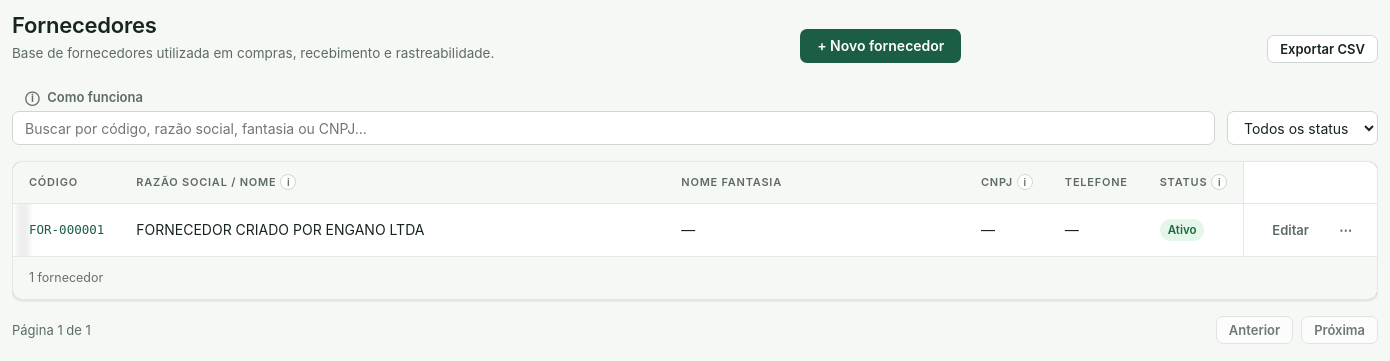
quem vê › Compras mantém o Fornecedor, mas não exclui definitivamente
Expected: the text "FOR-000001" is shown, [13,204,120,256]
Click the button named "Mais ações de FOR-000001" at (1346, 230), box [1330,216,1361,244]
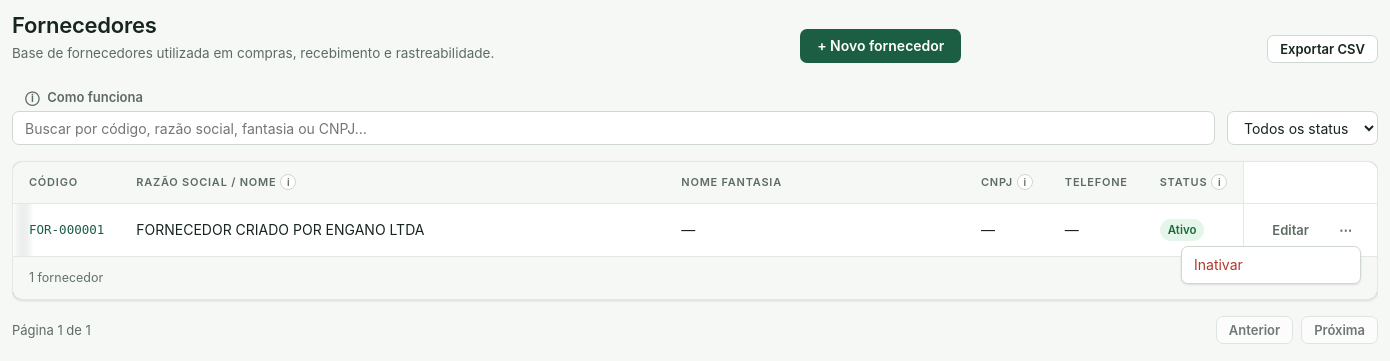
Result: the menu item "Inativar" is shown at [1182,247,1360,283]
